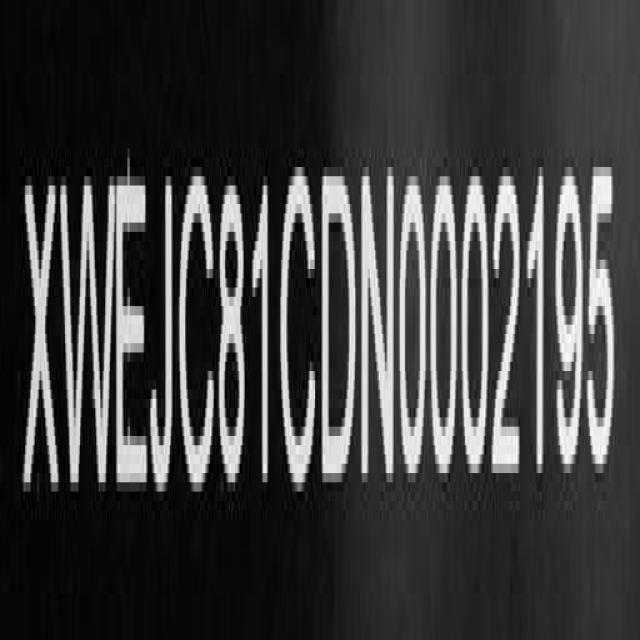0: (429, 151, 458, 491), (460, 158, 490, 474), (398, 158, 427, 484)
1: (526, 168, 548, 495), (251, 175, 271, 498)
2: (492, 165, 523, 481)
5: (586, 154, 618, 488)
8: (218, 189, 247, 495)
9: (554, 165, 584, 467)
C: (177, 165, 216, 505), (278, 165, 316, 495)
D: (320, 158, 357, 495)
E: (114, 172, 148, 488)
J: (150, 168, 174, 495)
N: (361, 148, 396, 488)
W: (60, 175, 115, 498)
X: (23, 168, 61, 519)
